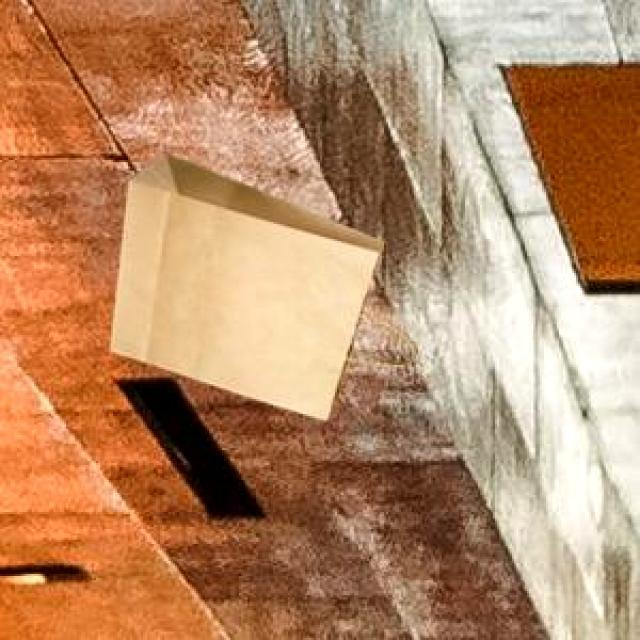Paper_Bag: (108, 150, 415, 417)
